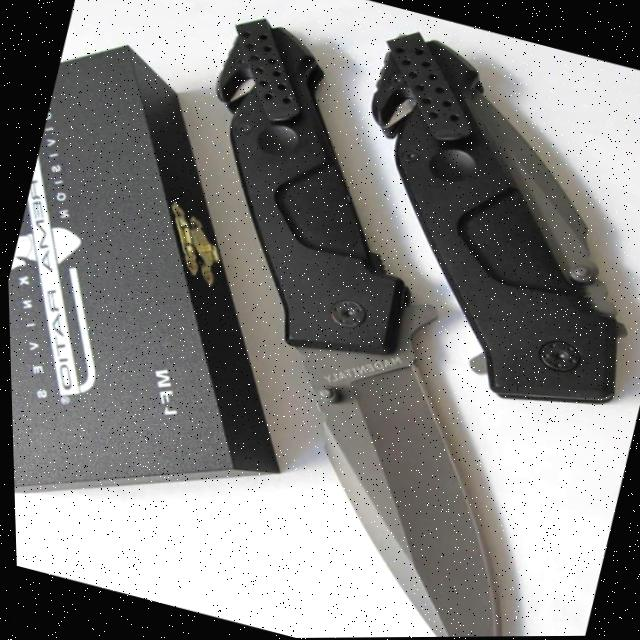knife: (75, 5, 640, 640), (298, 20, 640, 425)
